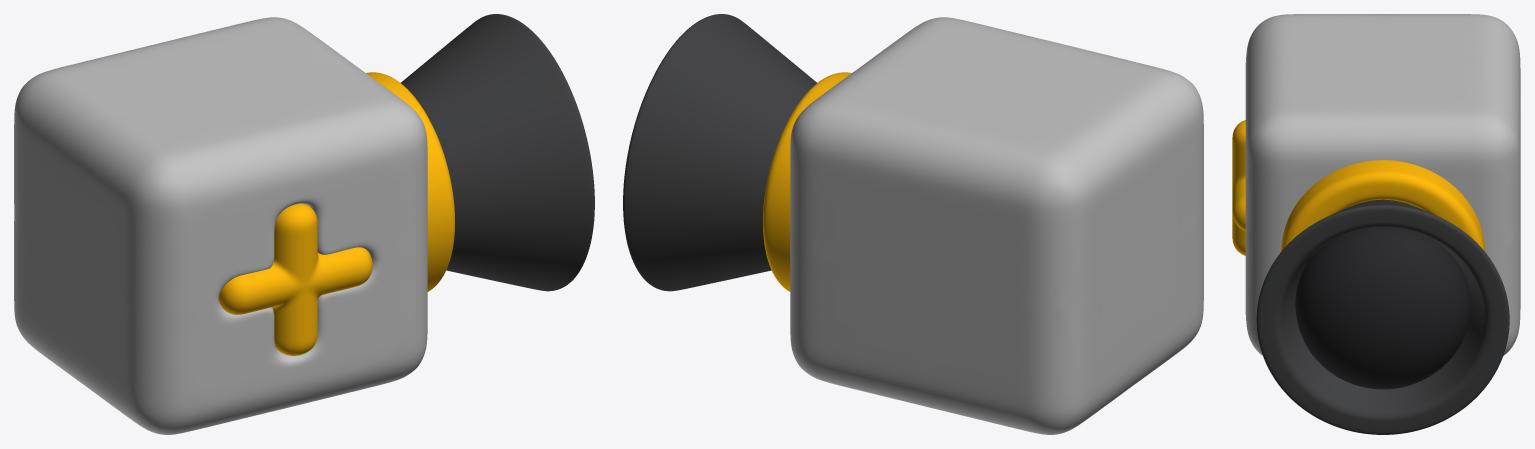
File: start-meeting-animated-3d-icon-1692992707300.glb
3 views of the same model, side by side, from view 1: azimuth 30°, elevation 25°; view 2: azimuth 150°, elevation 25°; view 3: azimuth 270°, elevation 25° (orthographic). The views are drawn at different scales.
Visible parts, largest first — view 1: Body Cam, Lens Hood, Add Icon.002, Adapter; view 2: Body Cam, Lens Hood, Adapter; view 3: Body Cam, Lens Hood, Lens, Adapter, Add Icon.002.
Part boxes in pixels (<box>): Body Cam: <box>14,17,427,434</box>; Lens Hood: <box>401,14,594,291</box>; Add Icon.002: <box>218,203,372,355</box>; Adapter: <box>366,72,454,291</box>; Body Cam: <box>790,17,1203,434</box>; Lens Hood: <box>623,14,816,291</box>; Adapter: <box>763,72,851,291</box>; Body Cam: <box>1245,14,1520,355</box>; Lens Hood: <box>1256,199,1509,434</box>; Lens: <box>1295,227,1470,389</box>; Adapter: <box>1281,160,1485,251</box>; Add Icon.002: <box>1232,120,1245,255</box>.
Bounding box in the file's own units: 1.47 × 0.8243 × 0.8641.
